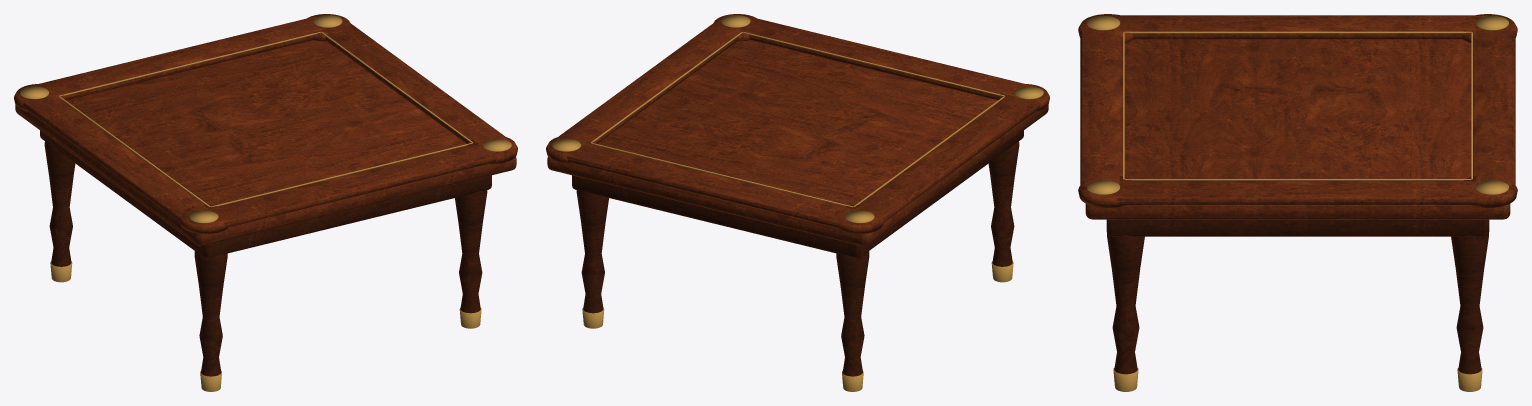
Rendered from okey_table.glb.
3 renders of one model, left to right at view 1: azimuth 30°, elevation 25°; view 2: azimuth 150°, elevation 25°; view 3: azimuth 270°, elevation 25°, orthographic. The views are drawn at different scales.
Visible parts, largest first — view 1: TableBed, TableRim_0, TableRim_2, TableRim_3, TableRim_1, TableSkirt, TurnedLeg_LB, TurnedLeg_RB, TurnedLeg_LF, CornerWood_LB, TableBrassStrip_2, TableBrassStrip_0 (+1 smaller); view 2: TableBed, TableRim_2, TableRim_0, TableRim_3, TableSkirt, TableRim_1, TurnedLeg_LF, TurnedLeg_RF, TurnedLeg_LB, CornerWood_LF, TableBrassStrip_0, TableBrassStrip_2; view 3: TableBed, TableRim_1, TableRim_3, TableSkirt, TableRim_0, TableRim_2, TurnedLeg_RB, TurnedLeg_RF, TableBrassStrip_3, CornerWood_RB, CornerWood_RF, TableBrassStrip_1 (+7 smaller).
Part boxes in pixels (bbox=[...]): TableBed: bbox=[15, 40, 516, 246]; TableRim_0: bbox=[204, 142, 497, 227]; TableRim_2: bbox=[30, 16, 330, 100]; TableRim_3: bbox=[22, 95, 208, 222]; TableRim_1: bbox=[320, 20, 509, 146]; TableSkirt: bbox=[40, 130, 491, 258]; TurnedLeg_LB: bbox=[194, 251, 227, 376]; TurnedLeg_RB: bbox=[455, 190, 487, 313]; TurnedLeg_LF: bbox=[44, 141, 75, 266]; CornerWood_LB: bbox=[179, 205, 228, 234]; TableBrassStrip_2: bbox=[59, 32, 320, 95]; TableBrassStrip_0: bbox=[211, 143, 472, 207]; TableBed: bbox=[547, 40, 1048, 246]; TableRim_2: bbox=[562, 143, 859, 227]; TableRim_0: bbox=[733, 16, 1033, 100]; TableRim_3: bbox=[852, 95, 1041, 222]; TableSkirt: bbox=[572, 130, 1023, 258]; TableRim_1: bbox=[554, 20, 742, 146]; TurnedLeg_LF: bbox=[836, 251, 869, 376]; TurnedLeg_RF: bbox=[576, 190, 608, 313]; TurnedLeg_LB: bbox=[988, 141, 1019, 266]; CornerWood_LF: bbox=[835, 205, 884, 234]; TableBrassStrip_0: bbox=[743, 32, 1004, 95]; TableBrassStrip_2: bbox=[591, 143, 852, 207]; TableBed: bbox=[1085, 39, 1510, 219]; TableRim_1: bbox=[1108, 181, 1488, 204]; TableRim_3: bbox=[1108, 15, 1487, 39]; TableSkirt: bbox=[1106, 219, 1489, 236]; TableRim_0: bbox=[1080, 25, 1122, 186]; TableRim_2: bbox=[1473, 25, 1515, 186]; TurnedLeg_RB: bbox=[1107, 233, 1144, 374]; TurnedLeg_RF: bbox=[1451, 233, 1488, 374]; TableBrassStrip_3: bbox=[1124, 31, 1471, 33]; CornerWood_RB: bbox=[1078, 175, 1134, 207]; CornerWood_RF: bbox=[1461, 175, 1517, 207]; TableBrassStrip_1: bbox=[1124, 179, 1471, 180].
Size of the model in its own units: 1.47 by 0.773 by 1.47.
Materials: 3 (2 with a texture image).
